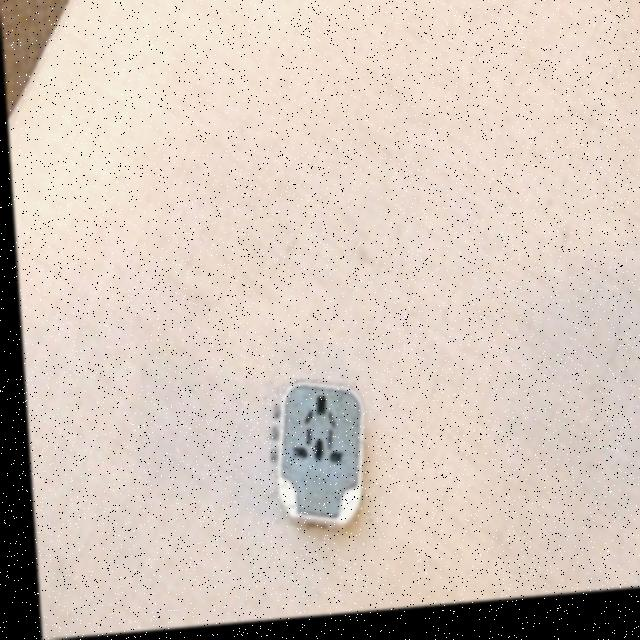adapter: (258, 380, 364, 538)
